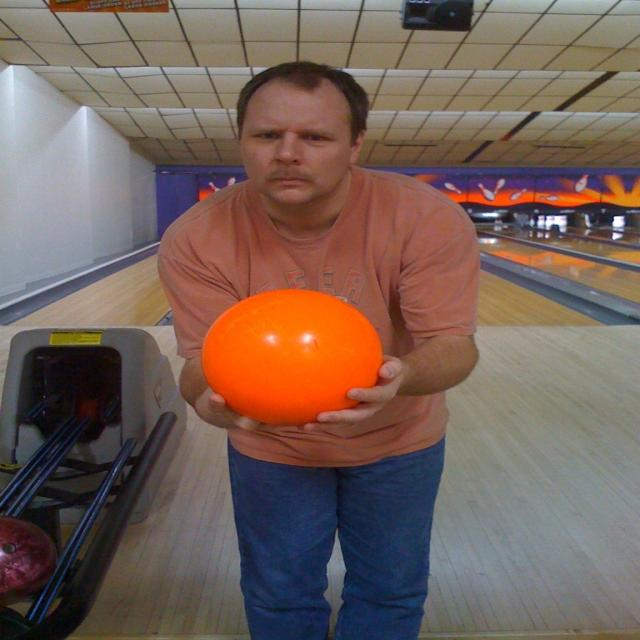Ball: (202, 291, 379, 428)
